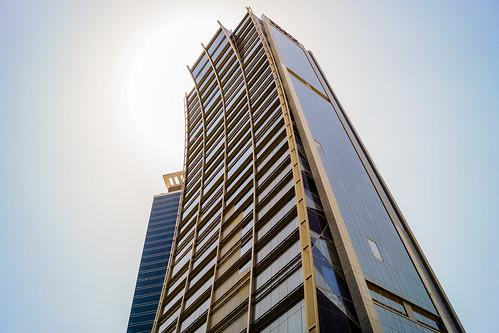building: (120, 6, 469, 333)
